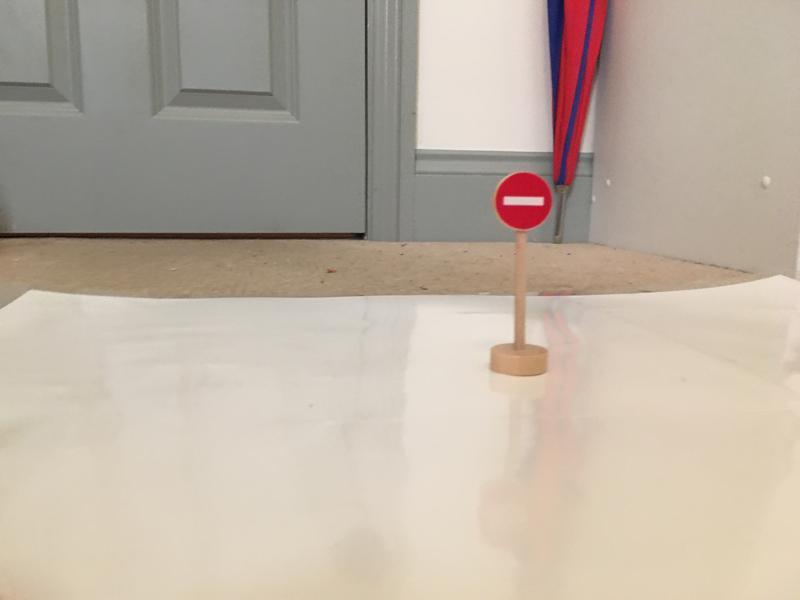Traffic_Sign_No_Entry: (498, 170, 549, 229)
